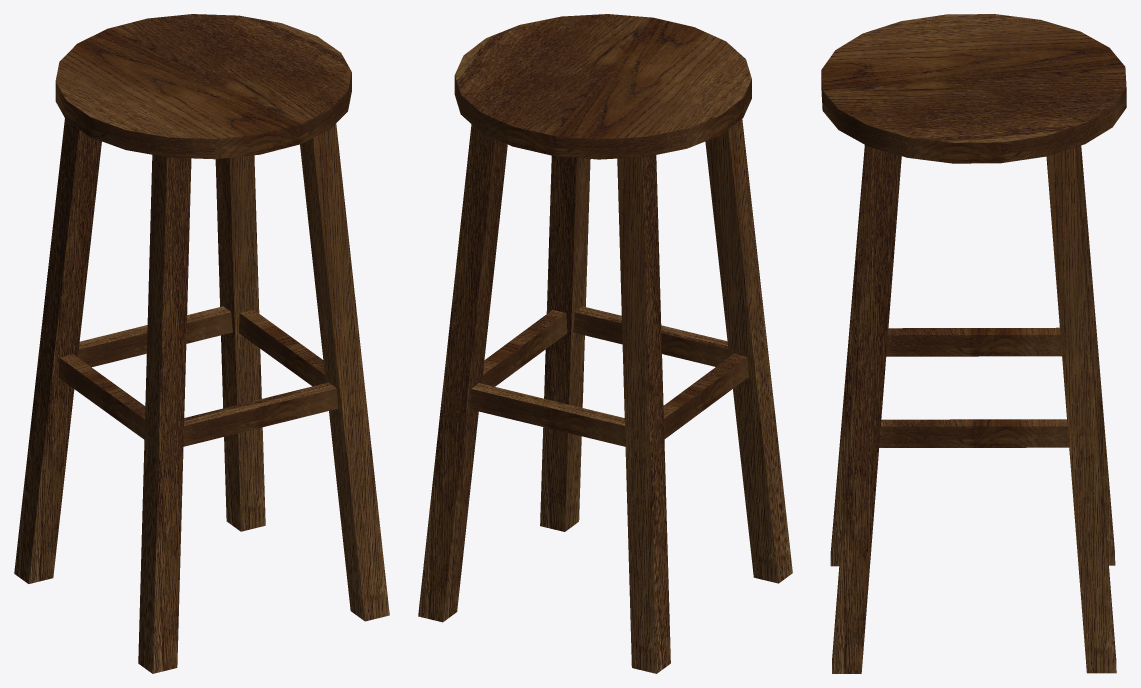
Rendered from chair2.FBX.
3 views of the same model, side by side, from view 1: azimuth 30°, elevation 25°; view 2: azimuth 150°, elevation 25°; view 3: azimuth 270°, elevation 25° (orthographic). The views are drawn at different scales.
Visible parts, largest first — view 1: chair2; view 2: chair2; view 3: chair2.
Part boxes in pixels (x1,y1,x2,y2): chair2: [14, 14, 389, 673]; chair2: [418, 14, 792, 673]; chair2: [821, 14, 1126, 673].
Bounding box in the file's own units: 55.81 × 108 × 55.81.
1 material, 1 textured.
